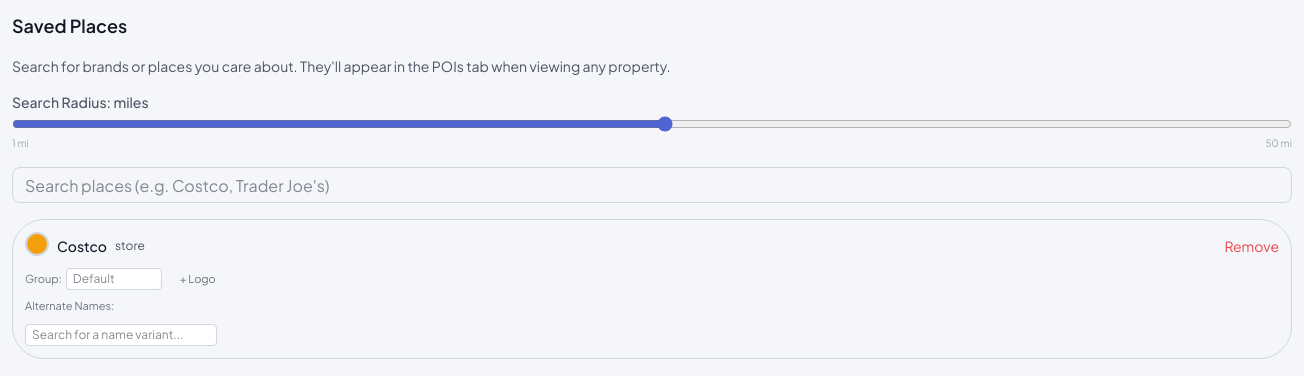
Test: SavedPlacesSection › shows + Logo button and opens image URL input on click
The image size is (1304, 376).
Click the button "+ Logo".
click(198, 279)  # box [174, 269, 222, 289]
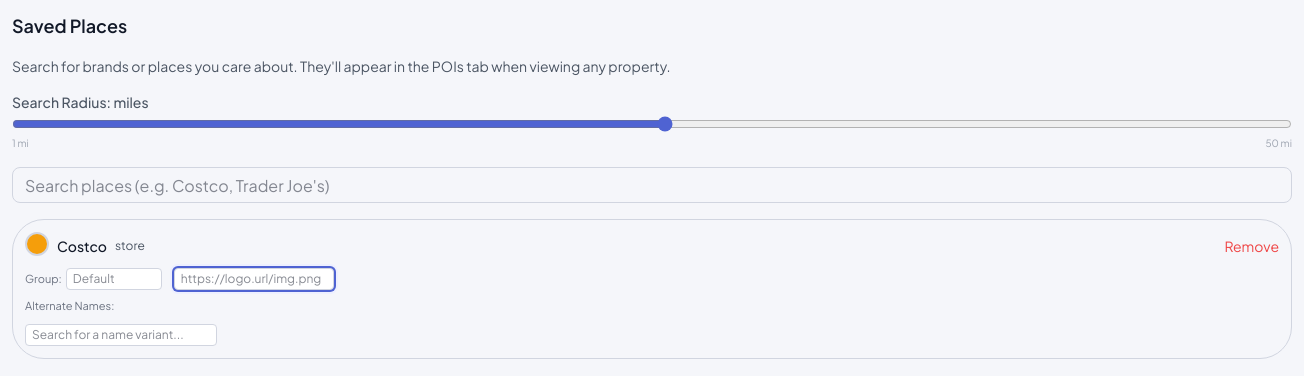
Expected: the field with placeholder "https://logo.url/img.png" is shown, [174, 268, 334, 290]
